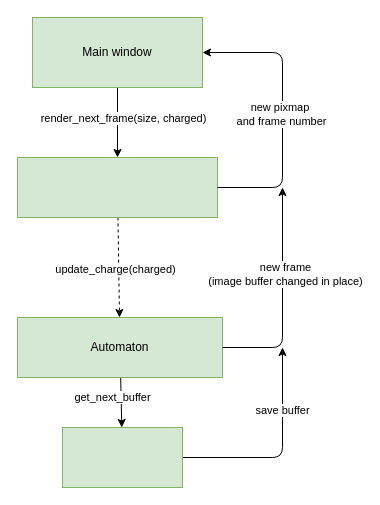
This 380x505 diagram has some shape labels left out. The centre of each missing label's shape, as x and y in pixels:
Frame recorder: (122,457)
Frame renderer: (117,187)
